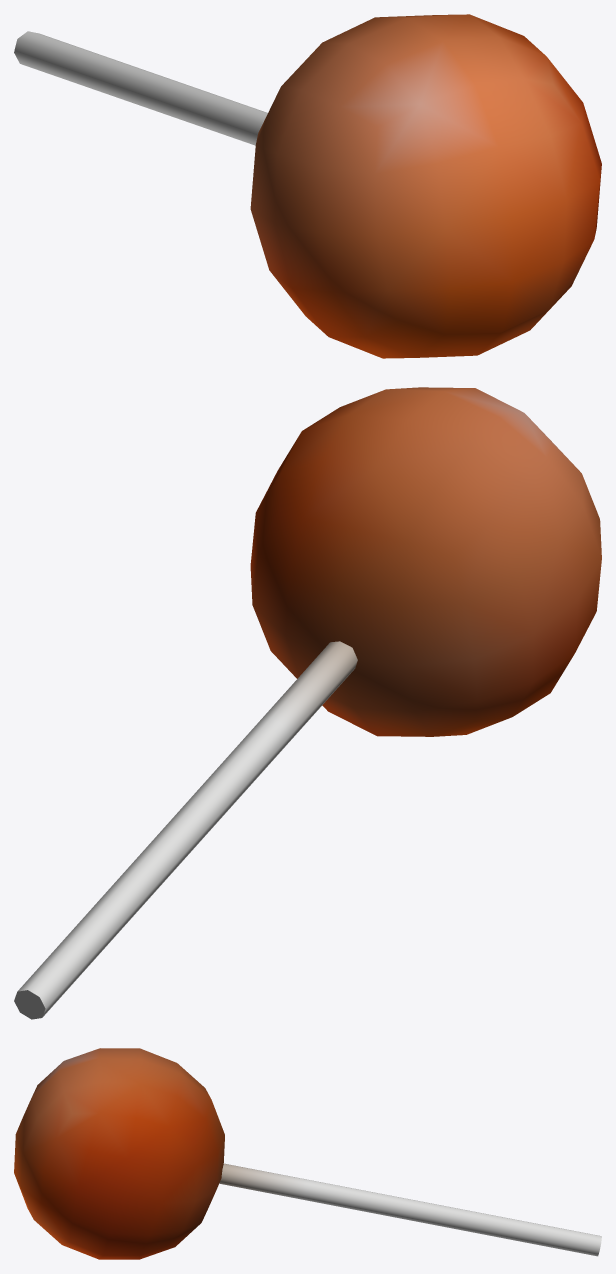
File: consumables-sugar-lollipop_v1.glb
3 renders of one model, top to bottom at view 1: azimuth 30°, elevation 25°; view 2: azimuth 150°, elevation 25°; view 3: azimuth 270°, elevation 25°, orthographic. The views are drawn at different scales.
Parts seen in each view (by area): view 1: Lollipop_v1; view 2: Lollipop_v1; view 3: Lollipop_v1.
Boxes of the visible parts, <box> form: Lollipop_v1: <box>14,14,601,358</box>; Lollipop_v1: <box>14,387,601,1019</box>; Lollipop_v1: <box>14,1048,601,1259</box>.
Bounding box in the file's own units: 0.0447 × 0.046 × 0.124.
